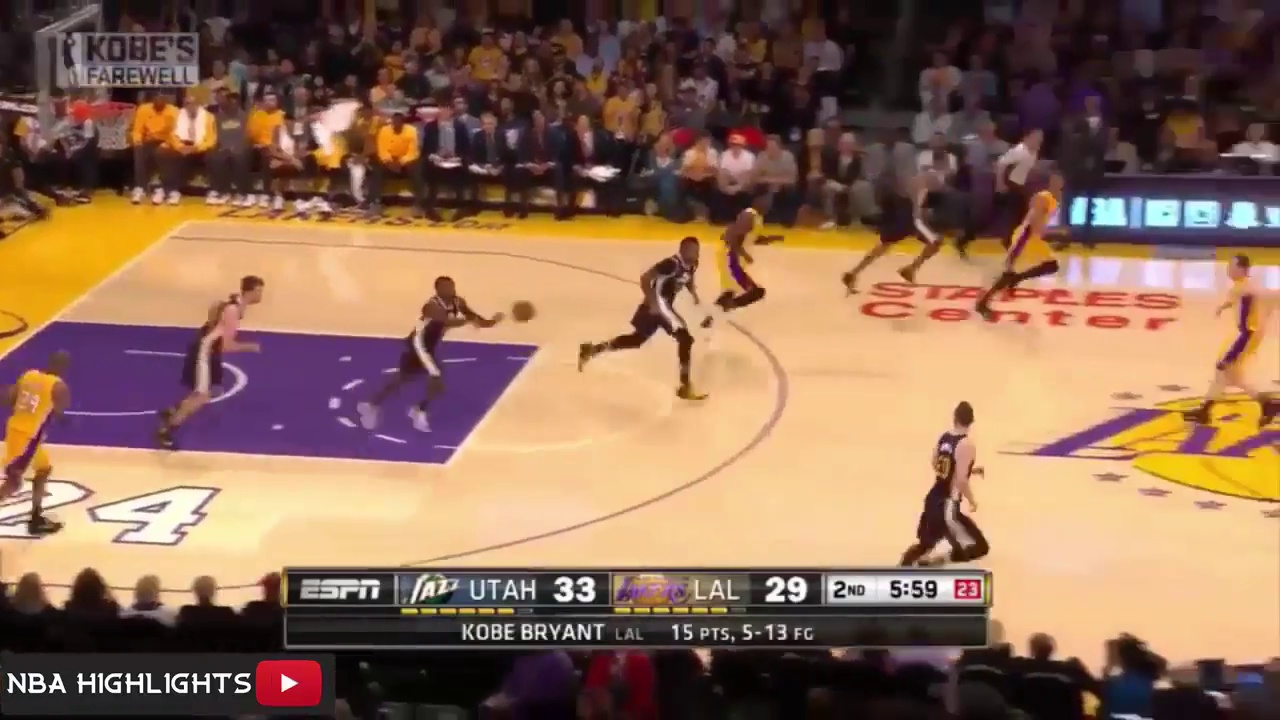jazz: (364, 273, 546, 430), (149, 270, 284, 461), (576, 233, 714, 409), (904, 392, 1007, 570), (844, 151, 966, 298)
lakers: (1185, 250, 1280, 429), (1, 344, 87, 533), (981, 173, 1078, 325), (704, 190, 793, 335)
